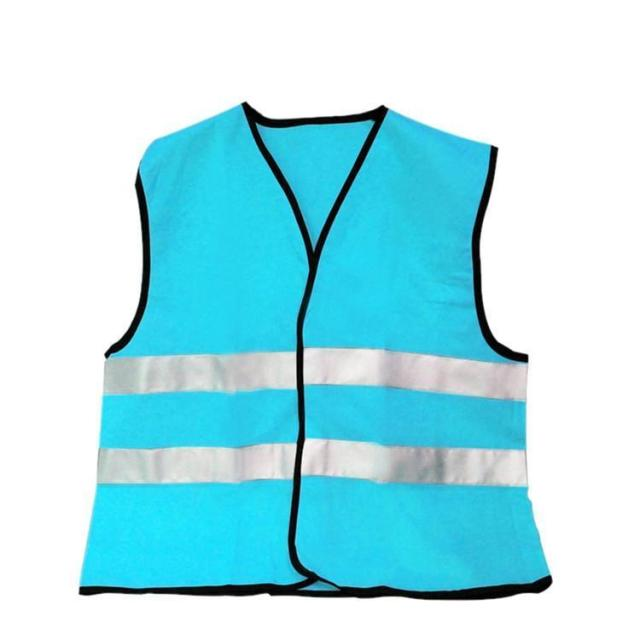Vest: (73, 97, 551, 600)
